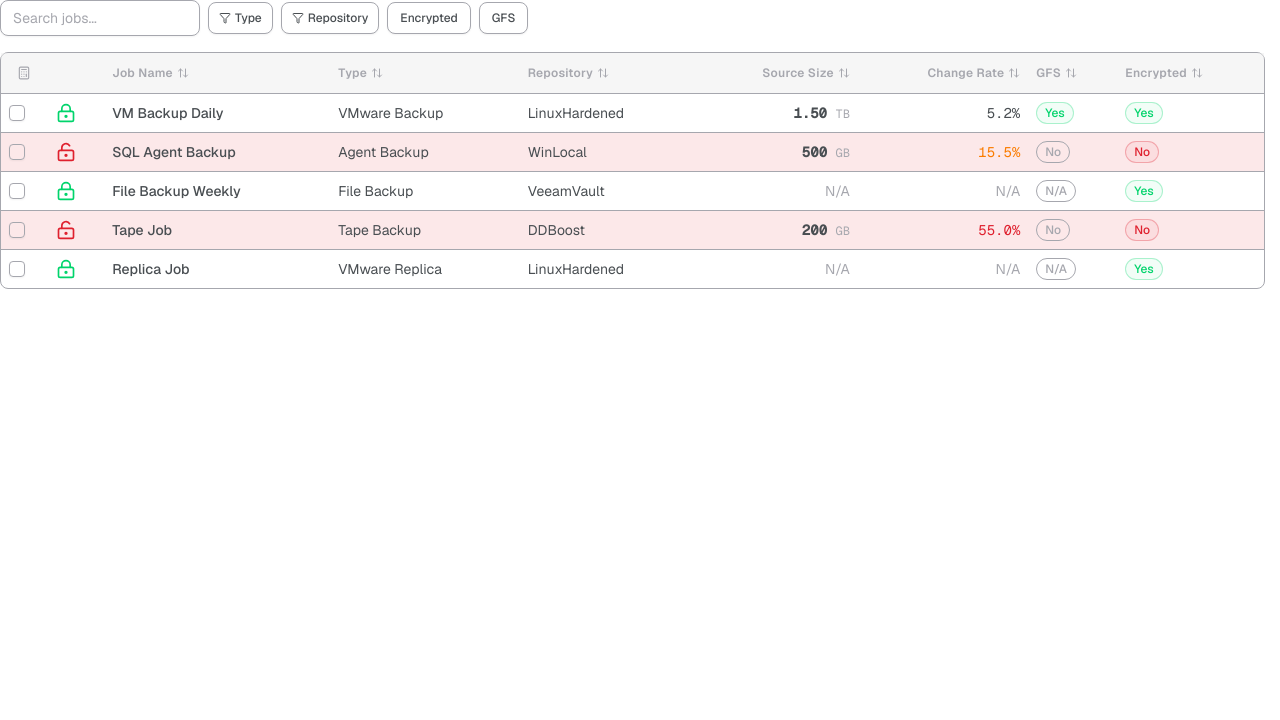
it: JobTable › row click interaction › clicking a row opens the detail sheet
Click the button "VM Backup Daily": point(168, 112) [1, 93, 1264, 132]
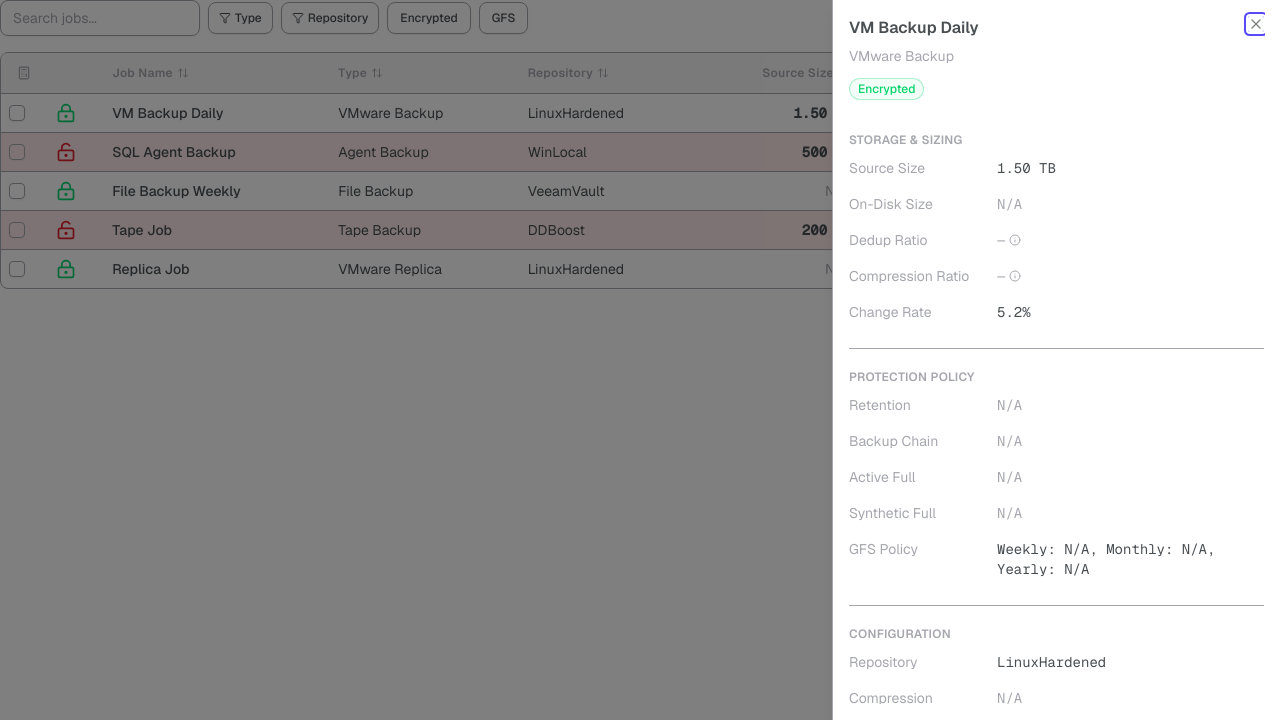
Expected: the dialog is shown, [832, 0, 1279, 719]
Expected: the heading "VM Backup Daily" is shown, [849, 17, 978, 38]
